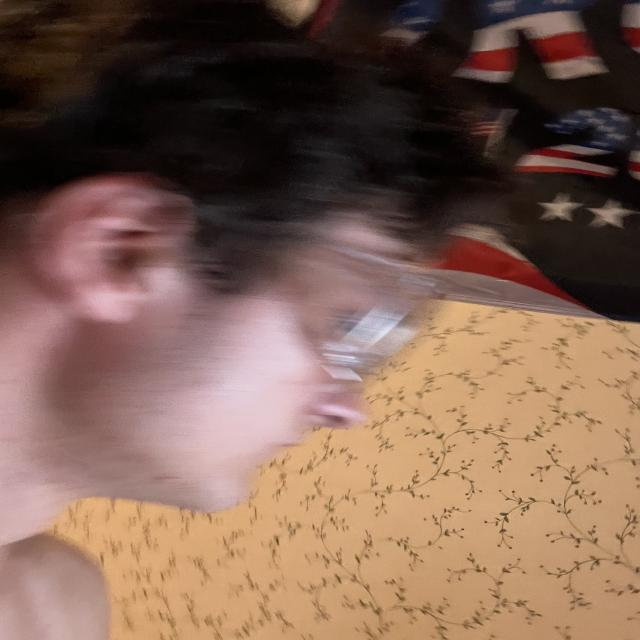Safety Glasses: (275, 226, 467, 393)
